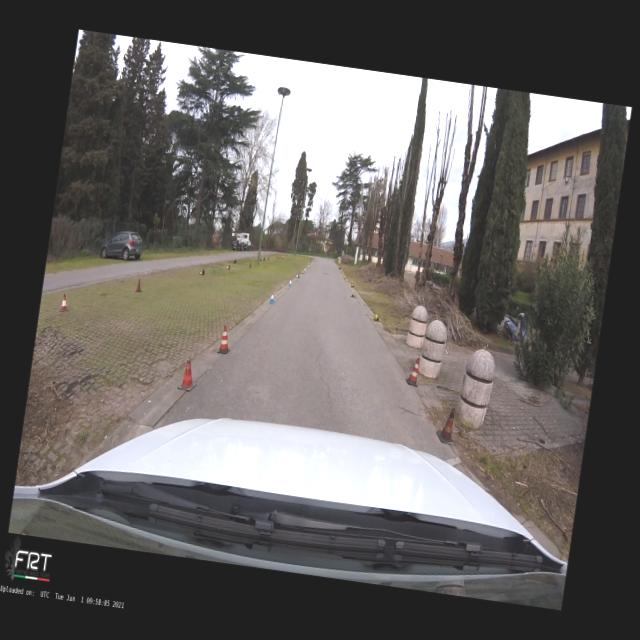blue_cone: (268, 290, 276, 304), (288, 279, 292, 287), (295, 274, 300, 278), (304, 268, 306, 272)
large_orange_cone: (217, 325, 234, 355), (405, 357, 421, 387)
orange_cone: (59, 294, 71, 313), (198, 269, 206, 275), (226, 264, 230, 270)
unknown_cone: (435, 407, 459, 445), (178, 358, 200, 392), (134, 279, 144, 293), (232, 260, 236, 264), (262, 257, 266, 261), (249, 263, 252, 268), (260, 258, 262, 262), (268, 256, 270, 260)
yellow_cone: (373, 312, 382, 322), (350, 292, 356, 298), (350, 283, 356, 288), (344, 276, 346, 281)
